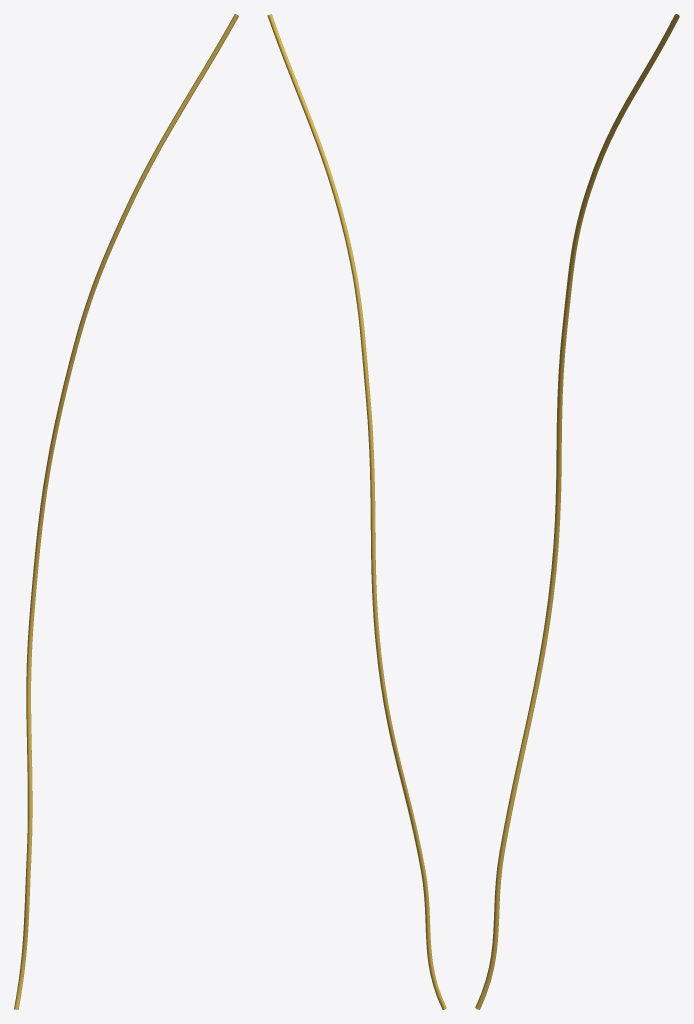
Rendered from Musculocutaneous_nerve_right.glb.
3 renders of one model, left to right at view 1: azimuth 30°, elevation 25°; view 2: azimuth 150°, elevation 25°; view 3: azimuth 330°, elevation 25°, orthographic. The views are drawn at different scales.
Parts seen in each view (by area): view 1: Musculocutaneous_nerve.r_BezierCurve.498; view 2: Musculocutaneous_nerve.r_BezierCurve.498; view 3: Musculocutaneous_nerve.r_BezierCurve.498.
Boxes of the visible parts, x1,y1,x2,y2 form: Musculocutaneous_nerve.r_BezierCurve.498: [14, 14, 238, 1009]; Musculocutaneous_nerve.r_BezierCurve.498: [267, 14, 446, 1009]; Musculocutaneous_nerve.r_BezierCurve.498: [475, 14, 679, 1009].
Bounding box in the file's own units: 0.0486 × 0.219 × 0.0199.
